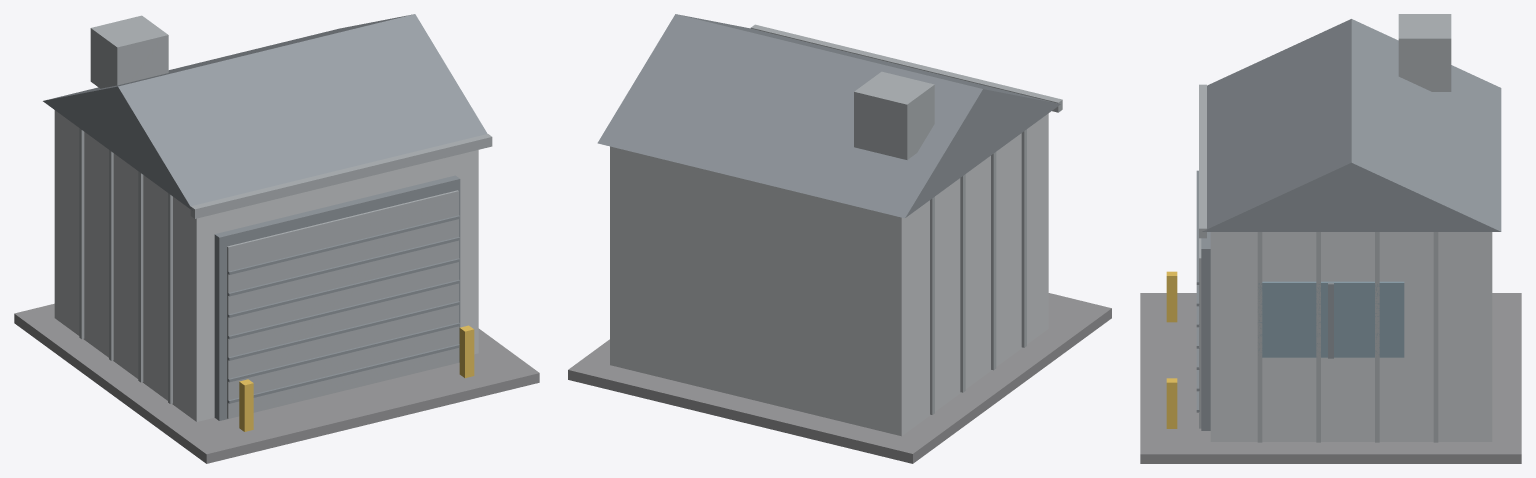
Rendered from industrial_1x1_a.glb.
3 renders of one model, left to right at view 1: azimuth 30°, elevation 25°; view 2: azimuth 150°, elevation 25°; view 3: azimuth 270°, elevation 25°, orthographic. The views are drawn at different scales.
Parts seen in each view (by area): view 1: industrial_1x1_a_yard; view 2: industrial_1x1_a_yard; view 3: industrial_1x1_a_yard.
Part boxes in pixels (x1,y1,x2,y2): industrial_1x1_a_yard: (14, 14, 539, 463); industrial_1x1_a_yard: (568, 14, 1111, 463); industrial_1x1_a_yard: (1140, 14, 1521, 463).
Size of the model in its own units: 6.5 by 5.8 by 6.5.
